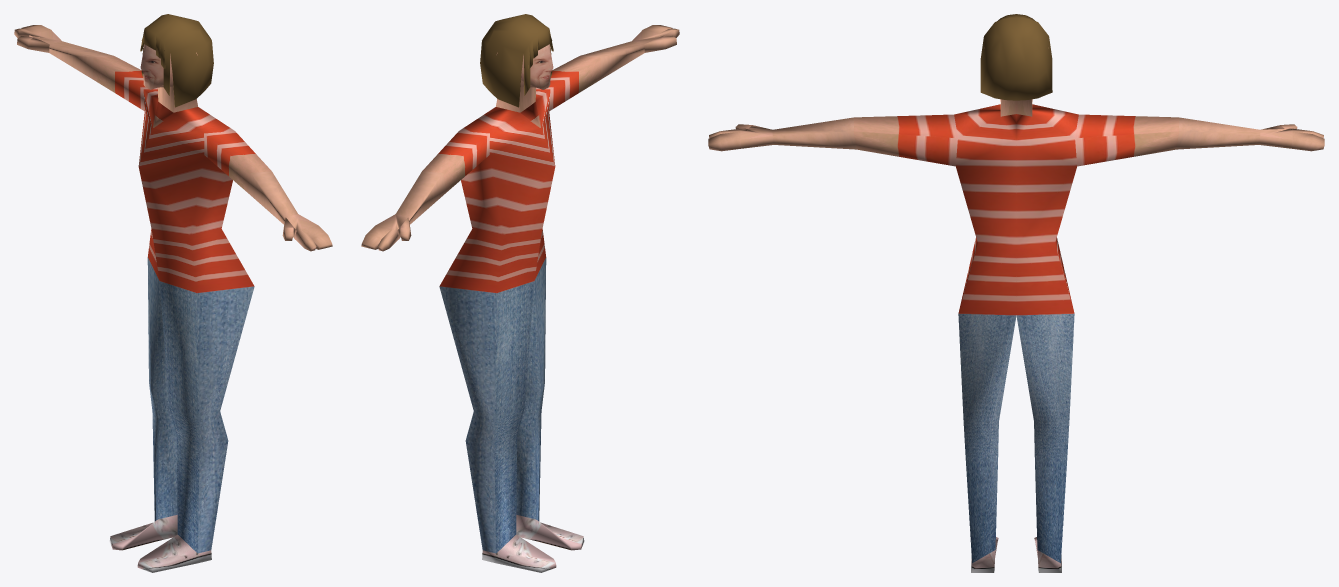
File: tanya.fbx
The picture shows the model from 3 angles, left to right: view 1: azimuth 30°, elevation 25°; view 2: azimuth 150°, elevation 25°; view 3: azimuth 270°, elevation 25°; orthographic projection. The views are drawn at different scales.
Visible parts, largest first — view 1: Cube.009, Cube.005; view 2: Cube.009, Cube.005; view 3: Cube.009, Cube.005.
Boxes of the visible parts, <box> form: Cube.009: <box>14,25,332,572</box>; Cube.005: <box>140,14,213,107</box>; Cube.009: <box>361,25,679,572</box>; Cube.005: <box>480,14,553,107</box>; Cube.009: <box>708,99,1324,572</box>; Cube.005: <box>980,14,1052,100</box>.
Size of the model in its own units: 70.49 by 345 by 352.
